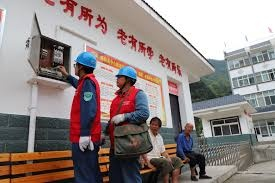blue: (115, 65, 138, 90), (73, 52, 96, 76)
none: (149, 115, 161, 134), (183, 122, 194, 135)
